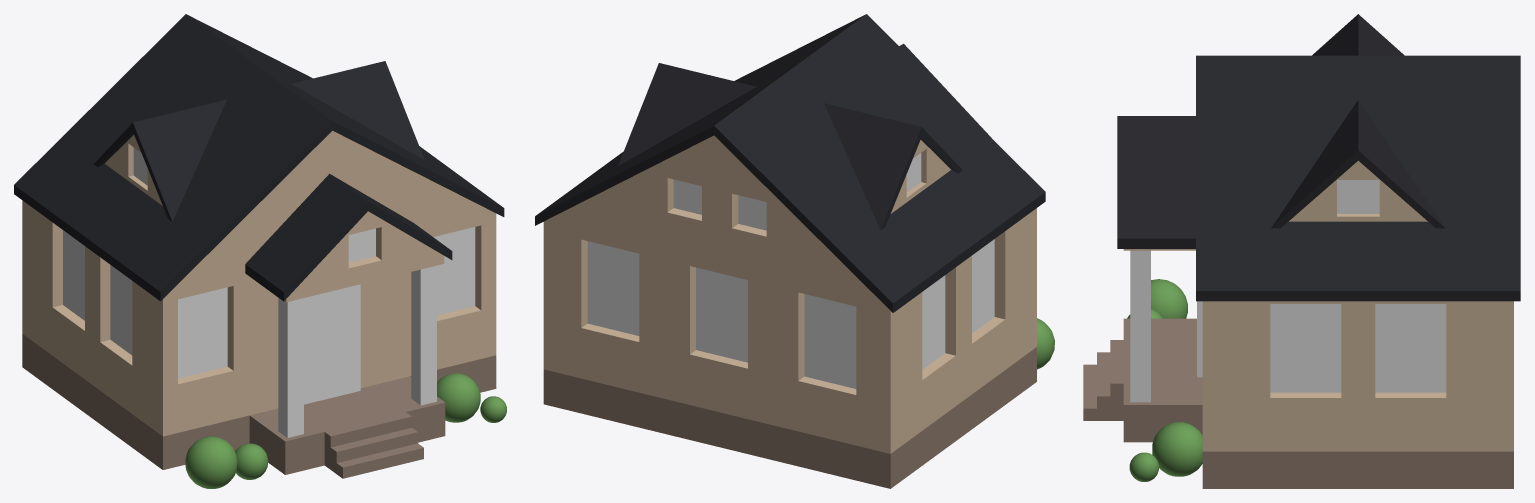
Rendered from house_02.fbx.
The picture shows the model from 3 angles, left to right: view 1: azimuth 30°, elevation 25°; view 2: azimuth 150°, elevation 25°; view 3: azimuth 270°, elevation 25°; orthographic projection. The views are drawn at different scales.
Visible parts, largest first — view 1: house_02; view 2: house_02; view 3: house_02.
Boxes of the visible parts, x1=… form: house_02: x1=14, y1=14, x2=506, y2=488; house_02: x1=535, y1=14, x2=1054, y2=488; house_02: x1=1083, y1=14, x2=1520, y2=488.
Size of the model in its own units: 392 by 390 by 351.
Materials: 1 (1 with a texture image).
